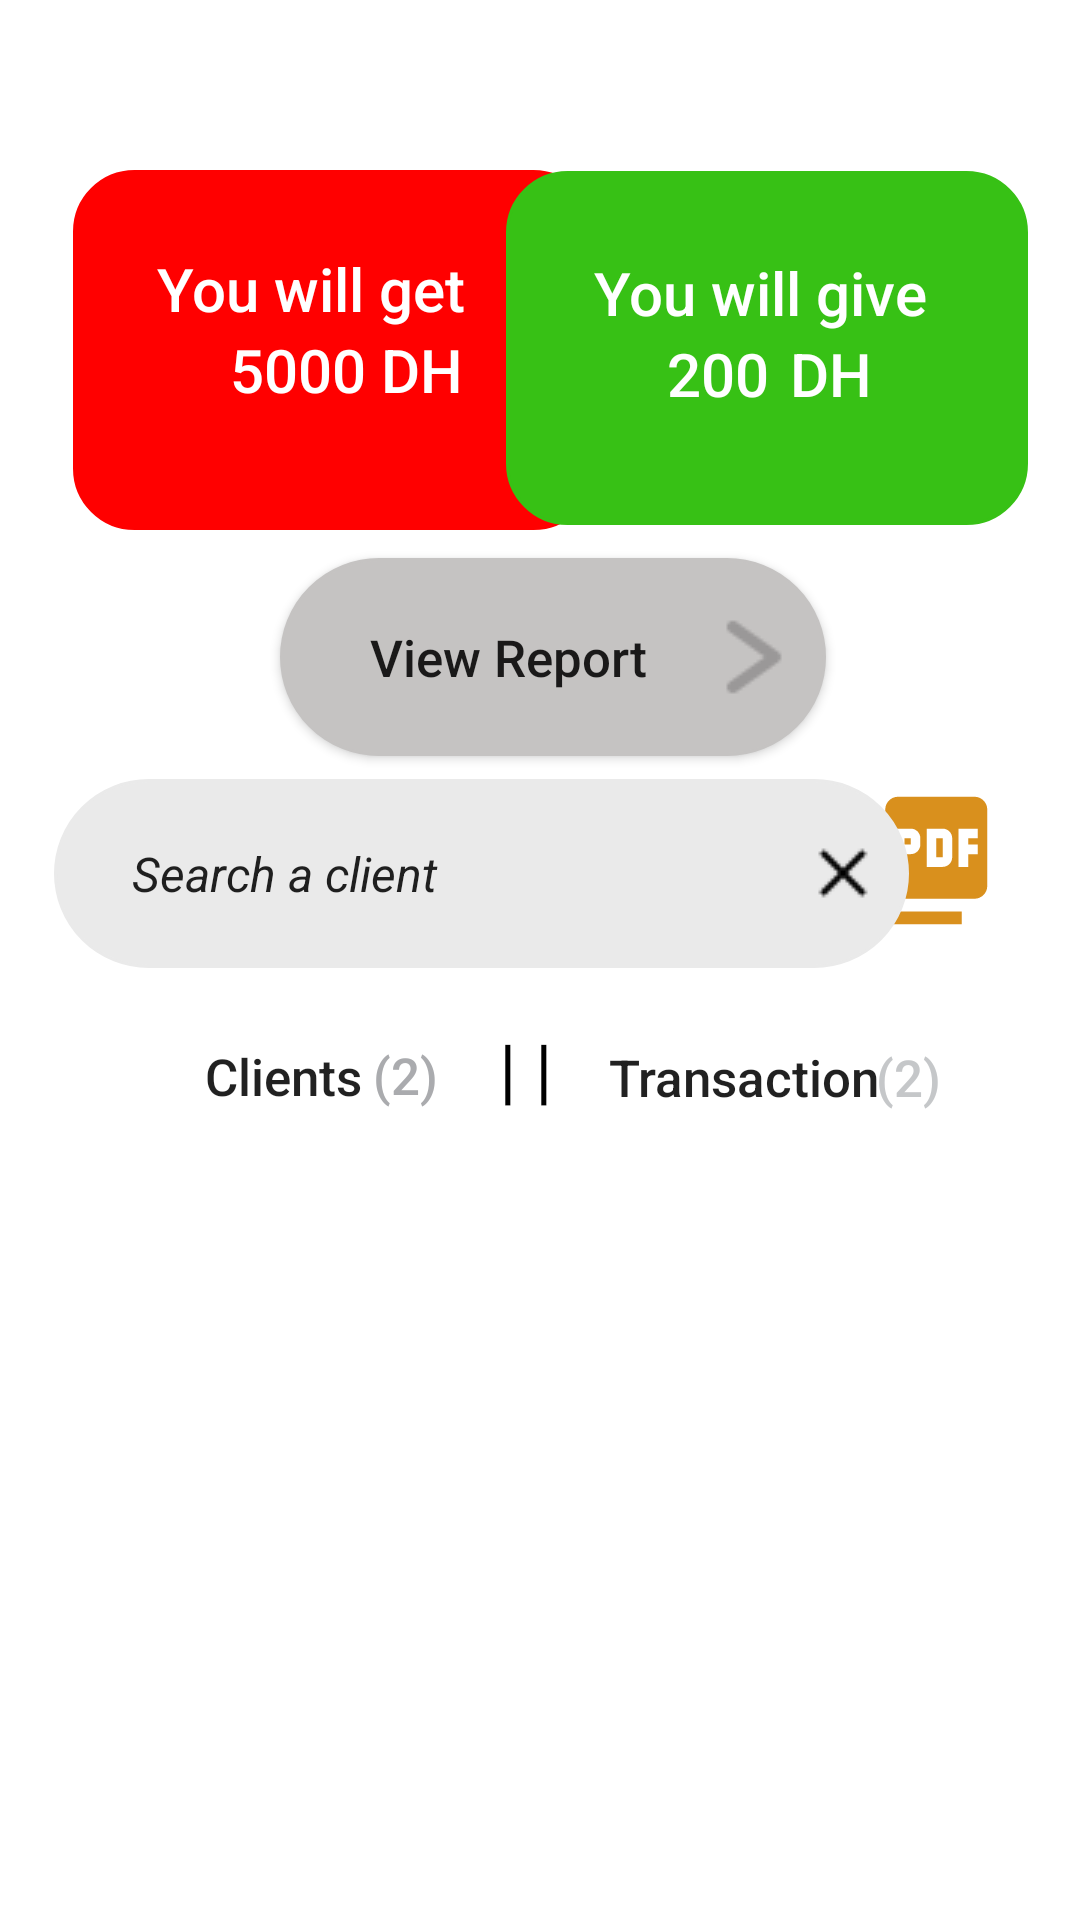

Named icons in this screenshot (1080px x 1920px) and their centers, [x,y]:
export pdf: [936,860]
